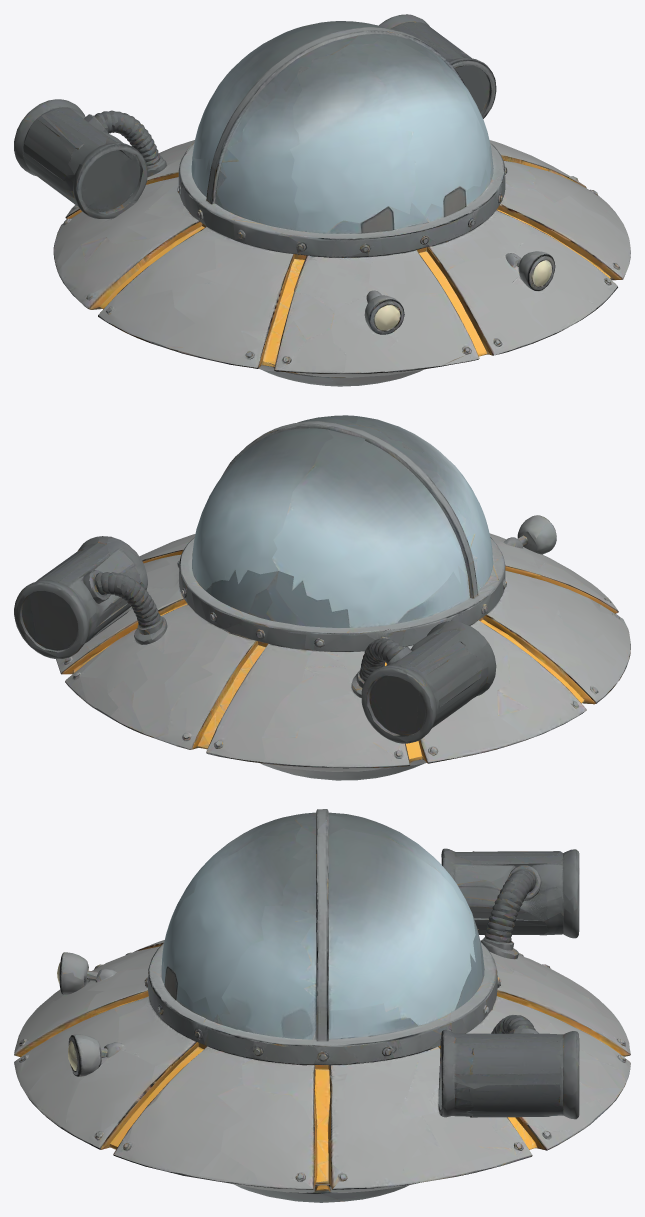
File: saucer.glb
3 renders of one model, top to bottom at view 1: azimuth 30°, elevation 25°; view 2: azimuth 150°, elevation 25°; view 3: azimuth 270°, elevation 25°, orthographic. The views are drawn at different scales.
Bounding box in the file's own units: 1.9 × 1.21 × 1.9.
1 material, 1 textured.
